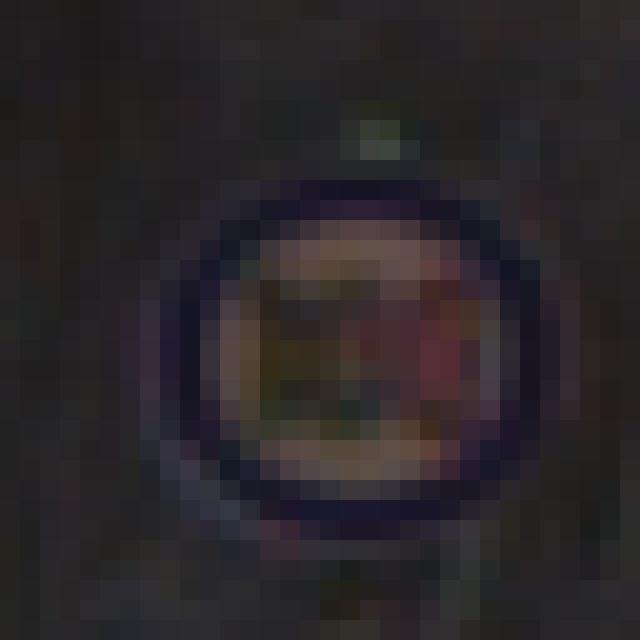SPEED LIMIT 100: (148, 177, 560, 539)
